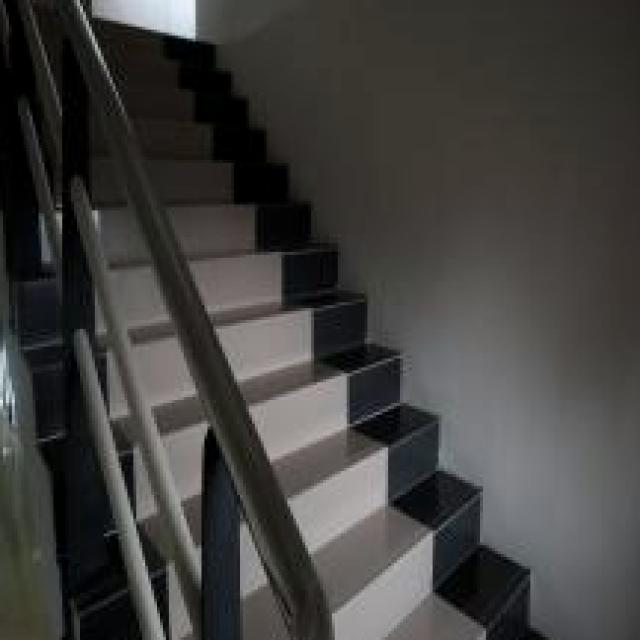upstair: (164, 131, 416, 404)
